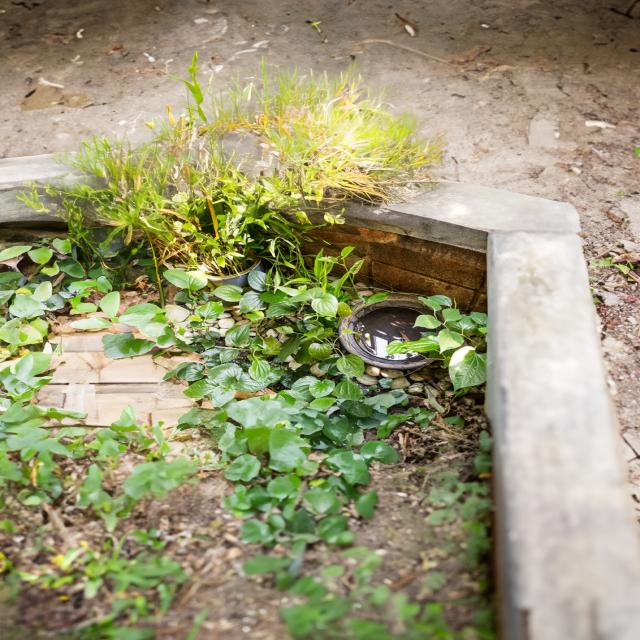Breeding Place: (160, 290, 473, 534), (0, 340, 172, 640), (136, 155, 337, 334), (320, 270, 466, 394), (0, 214, 130, 328)
